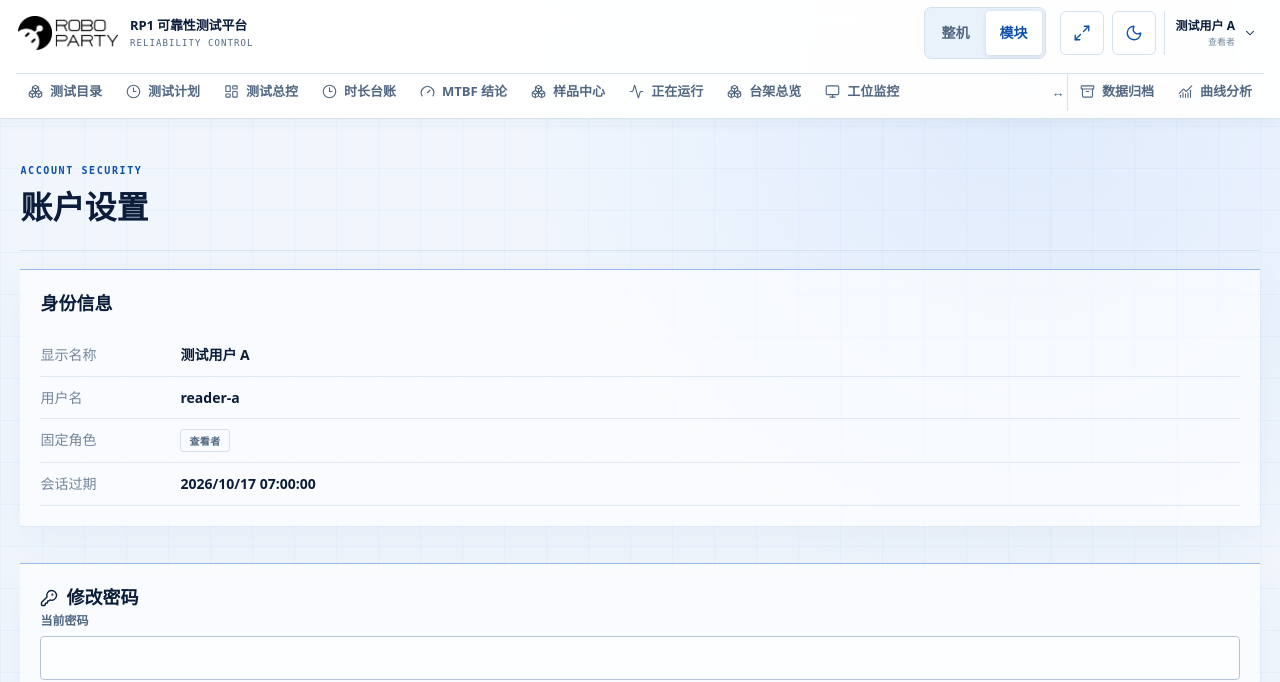
Test: shows persistent, retryable logout failure after network and only clears the UI on confirmed logout
Expected: the heading "账户设置" is shown, x1=20 y1=185 x2=148 y2=228
Click the button "测试用户 A 查看者" at (1214, 33), box x1=1164 y1=11 x2=1264 y2=55
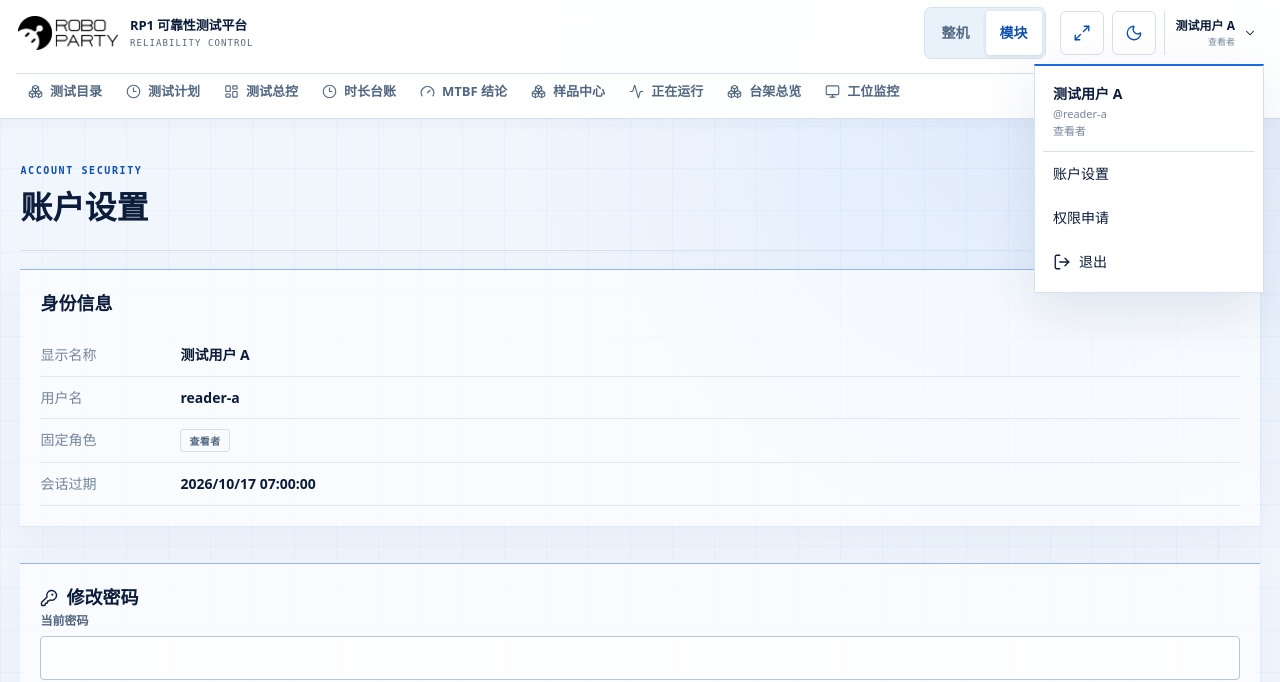
Click the menu item "退出" at (1149, 262), box x1=1043 y1=240 x2=1255 y2=284
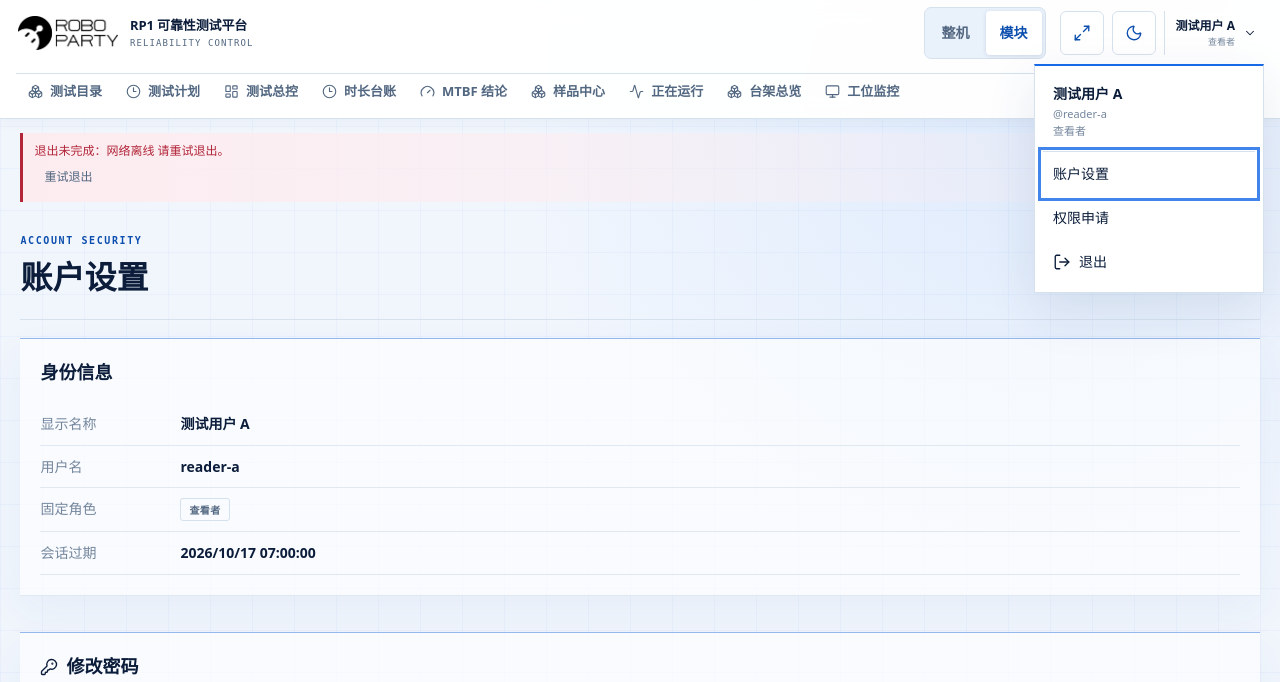
Expected: the button "重试退出" is shown, x1=34 y1=161 x2=102 y2=193
Expected: the message shows "退出未完成", x1=34 y1=142 x2=230 y2=159
Click the button "测试用户 A 查看者" at (1214, 33), box x1=1164 y1=11 x2=1264 y2=55
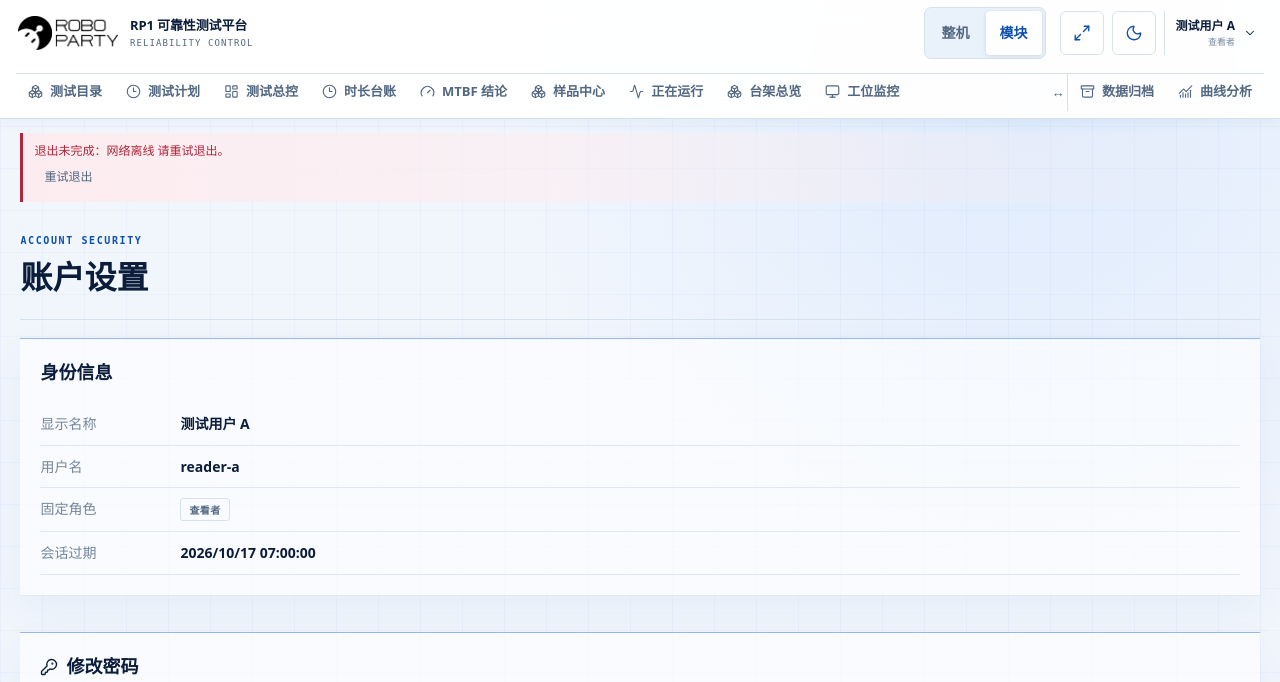
Expected: the button "重试退出" is shown
Expected: the menu is gone
Click the button "重试退出" at (68, 177), box x1=34 y1=161 x2=102 y2=193
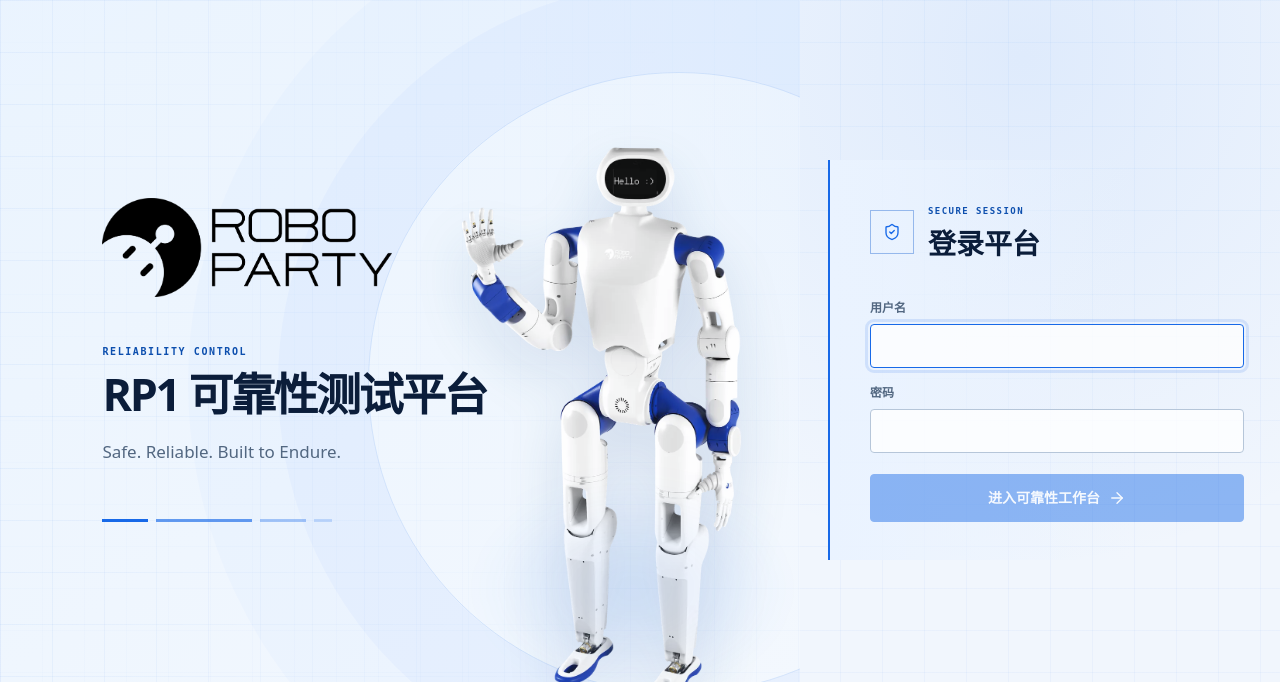
Expected: the heading "登录平台" is shown, x1=928 y1=222 x2=1040 y2=265
